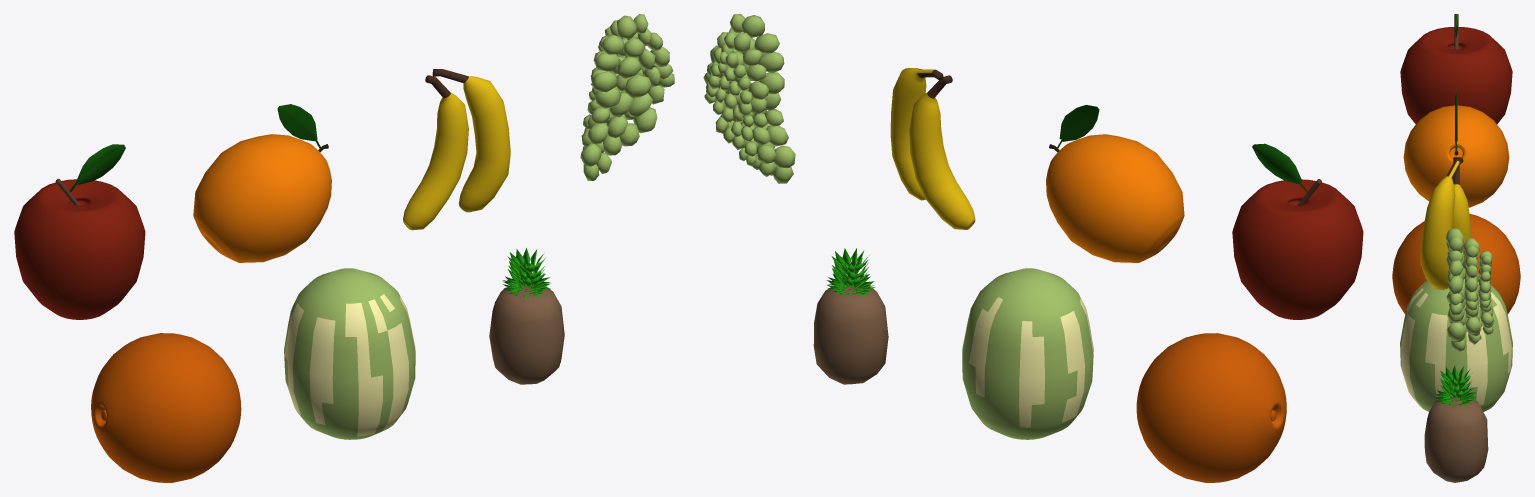
The model's file is Fruit.fbx.
The picture shows the model from 3 angles, left to right: view 1: azimuth 30°, elevation 25°; view 2: azimuth 150°, elevation 25°; view 3: azimuth 270°, elevation 25°; orthographic projection. The views are drawn at different scales.
Parts seen in each view (by area): view 1: WaterMelon, Orange.001, Apple, Mango, Banana, Grapes, PineApple; view 2: WaterMelon, Orange.001, Apple, Mango, Grapes, Banana, PineApple; view 3: WaterMelon, Apple, Mango, PineApple, Grapes, Orange.001, Banana.
Boxes of the visible parts, x1=… form: WaterMelon: x1=284, y1=268, x2=415, y2=439; Orange.001: x1=91, y1=333, x2=241, y2=482; Apple: x1=14, y1=144, x2=145, y2=319; Mango: x1=193, y1=104, x2=331, y2=262; Banana: x1=403, y1=69, x2=510, y2=230; Grapes: x1=580, y1=14, x2=674, y2=180; PineApple: x1=489, y1=248, x2=564, y2=384; WaterMelon: x1=962, y1=268, x2=1093, y2=439; Orange.001: x1=1136, y1=333, x2=1286, y2=482; Apple: x1=1232, y1=143, x2=1363, y2=319; Mango: x1=1046, y1=105, x2=1184, y2=262; Grapes: x1=703, y1=14, x2=795, y2=183; Banana: x1=890, y1=68, x2=975, y2=229; PineApple: x1=813, y1=248, x2=888, y2=384; WaterMelon: x1=1400, y1=277, x2=1512, y2=411; Apple: x1=1400, y1=14, x2=1512, y2=124; Mango: x1=1403, y1=90, x2=1509, y2=207; PineApple: x1=1424, y1=365, x2=1488, y2=482; Grapes: x1=1445, y1=228, x2=1494, y2=351; Orange.001: x1=1392, y1=214, x2=1520, y2=314; Banana: x1=1420, y1=157, x2=1471, y2=289.
Bounding box in the file's own units: 1220 × 623 × 244.
